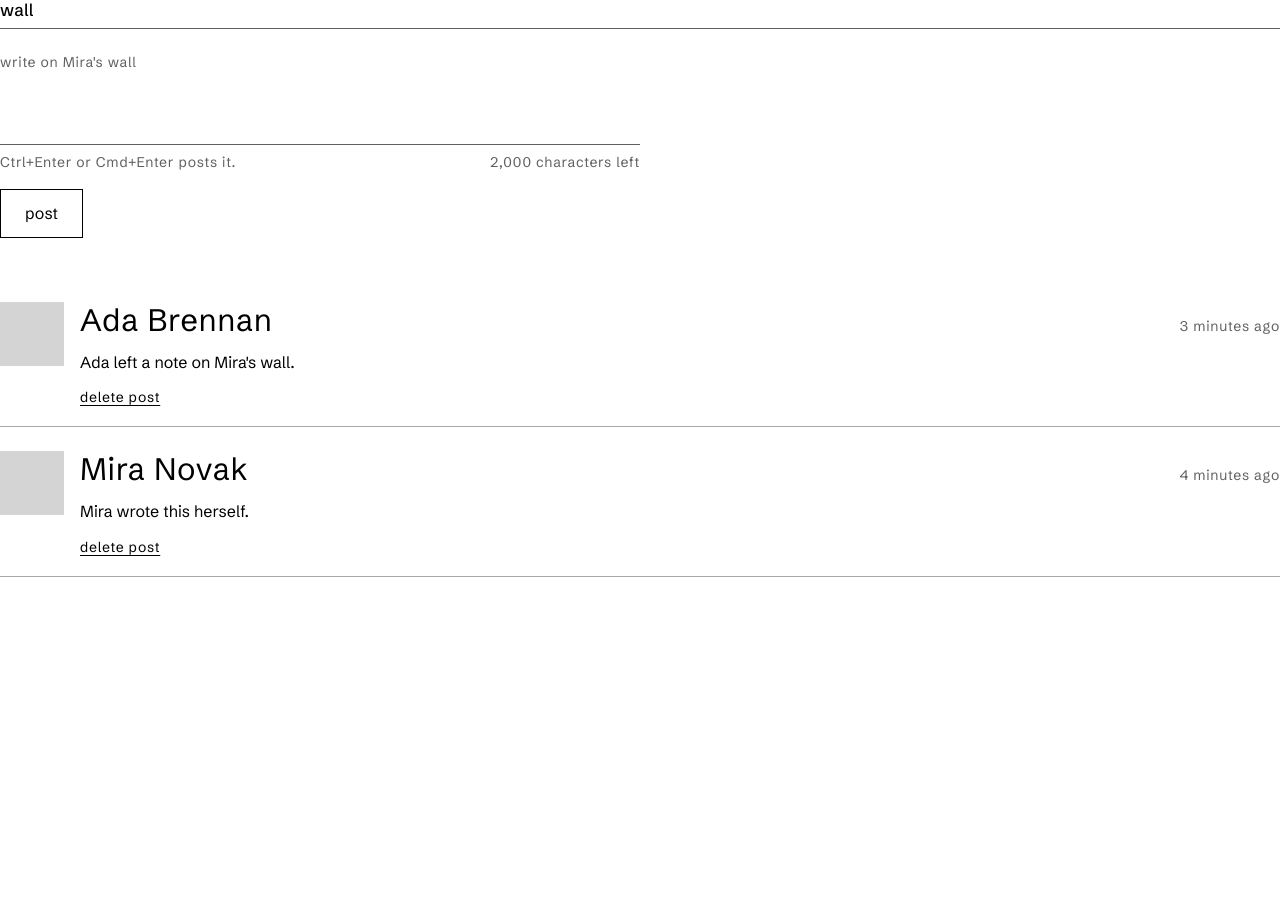
it: Wall › F-71: the owner can delete every post on the own wall after confirming
What coordinates should you click on to do the following:
click the button named "delete post by Ada Brennan"
I would click on:
 (120, 398)
Its box is left=80, top=386, right=160, bottom=410.
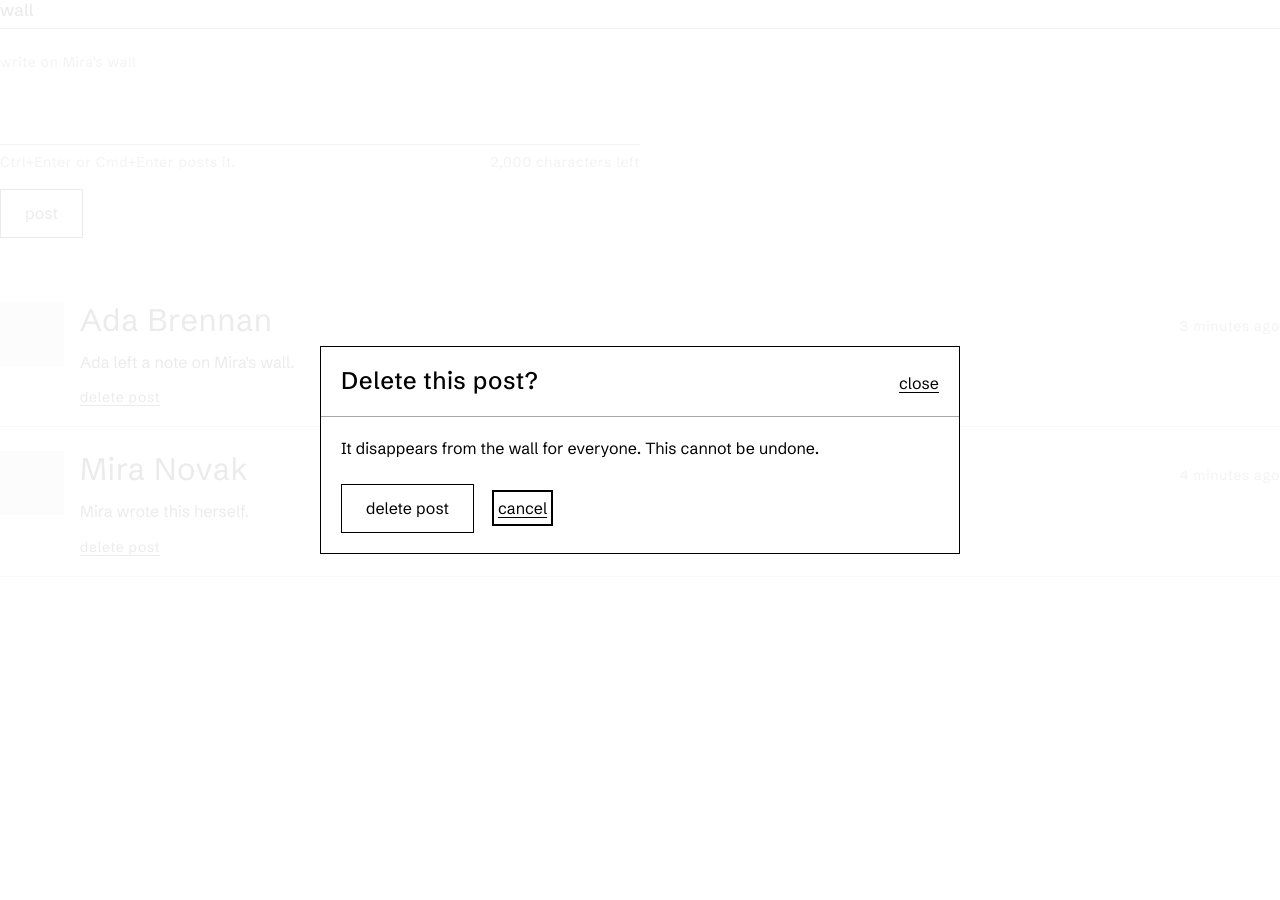
What coordinates should you click on to do the following:
click the button "delete post"
I would click on:
 (407, 508)
Its box is left=341, top=484, right=474, bottom=533.
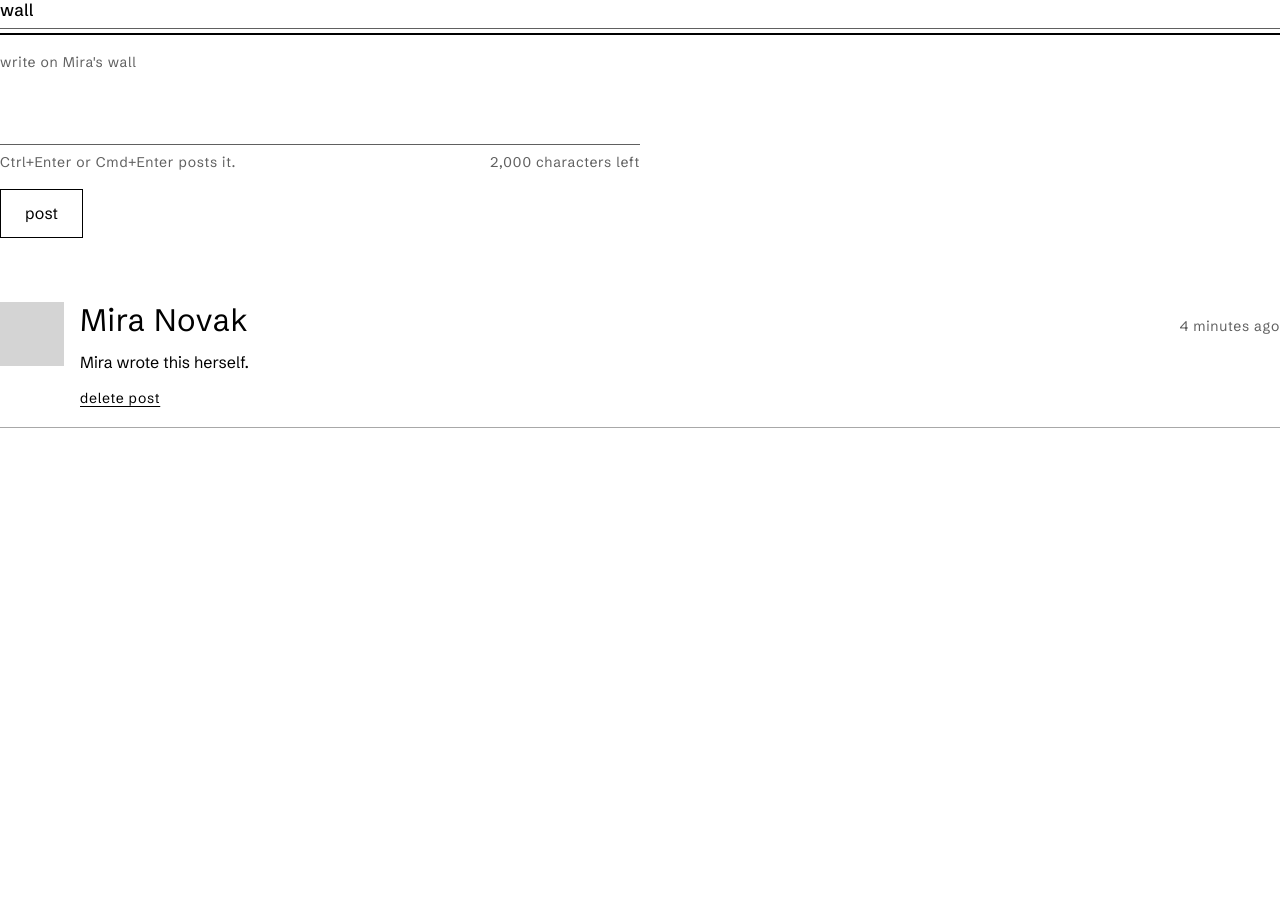
Expected: the text "Mira wrote this herself." is shown, left=80, top=351, right=249, bottom=374
Result: the text "Ada left a note on Mira's wall." is gone
